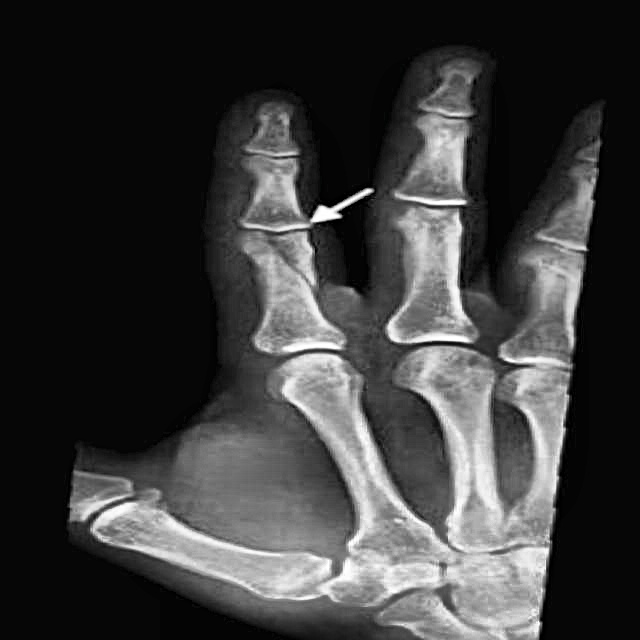Oblique Displaced: (231, 204, 332, 294)
